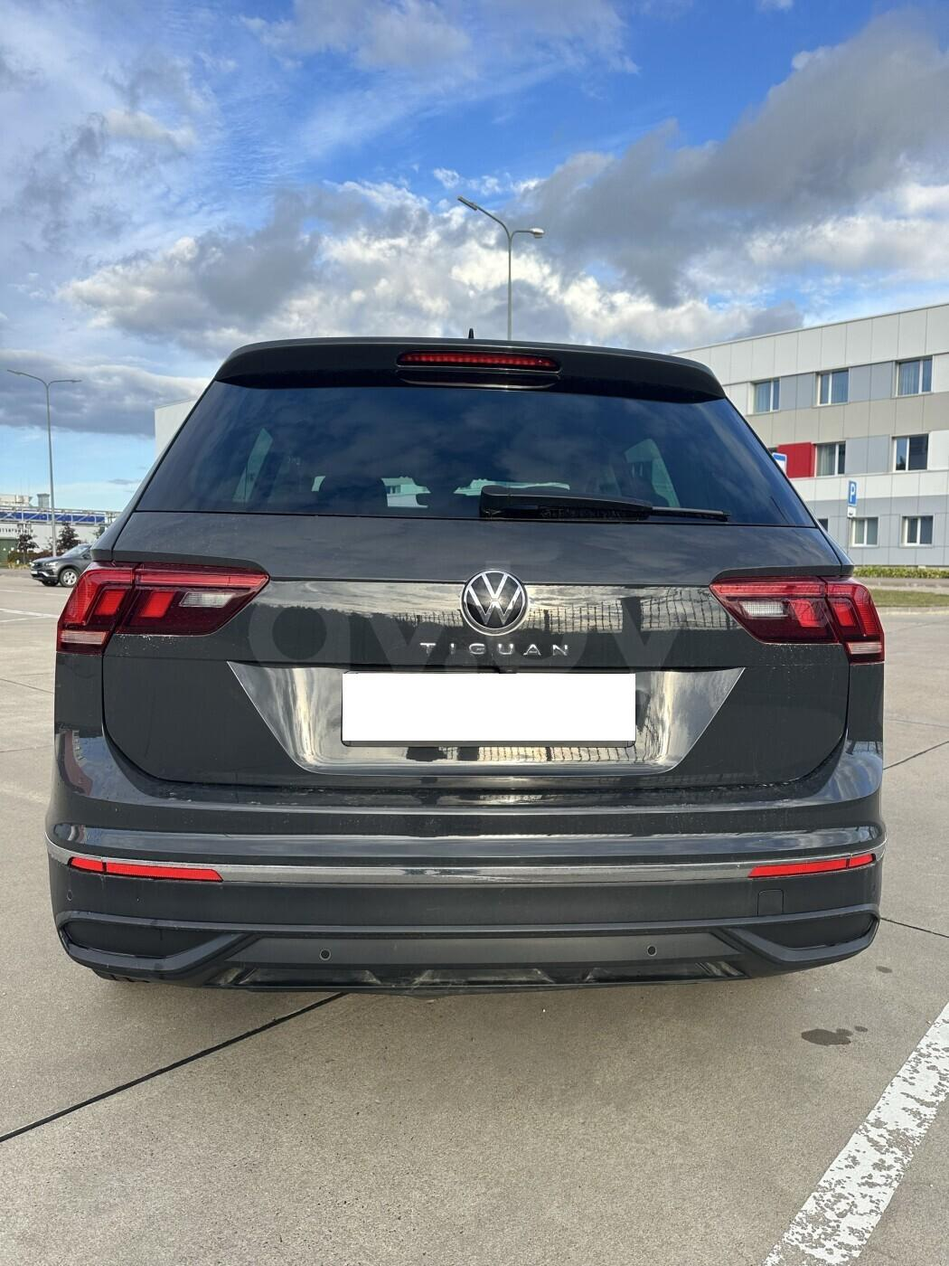Tiguan_2016-2021: (38, 333, 888, 995)
